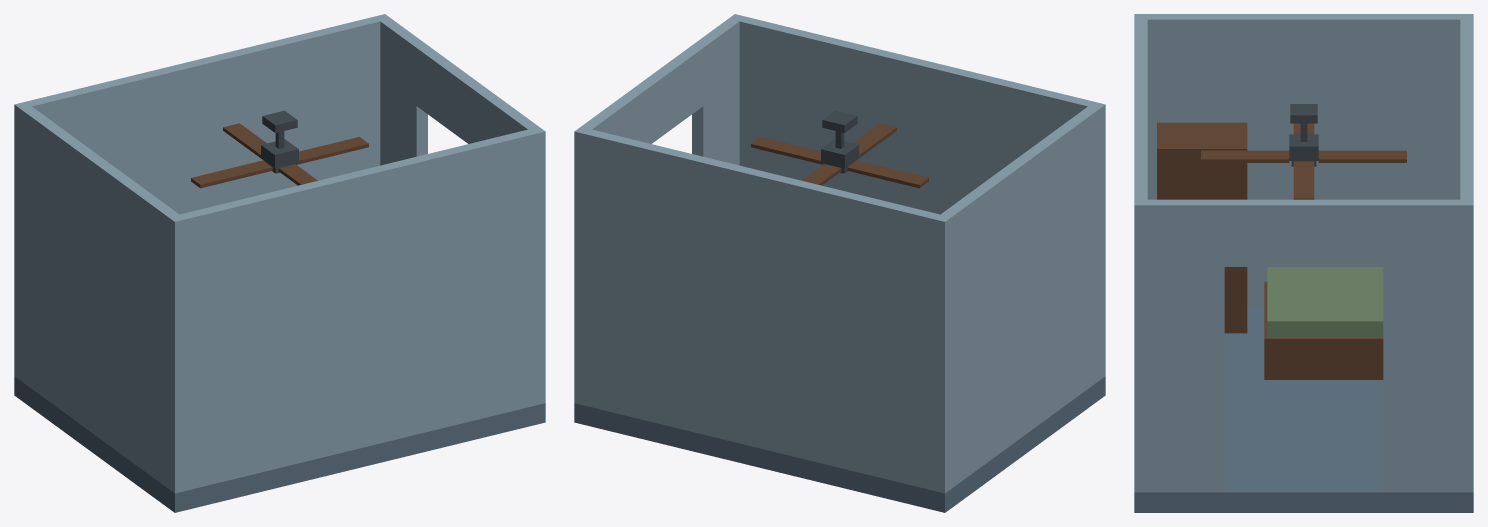
The model's file is room-fan.glb.
The picture shows the model from 3 angles, left to right: view 1: azimuth 30°, elevation 25°; view 2: azimuth 150°, elevation 25°; view 3: azimuth 270°, elevation 25°; orthographic projection. The views are drawn at different scales.
Visible parts, largest first — view 1: Fan room south wall end, Fan room west wall end, Fan room north wall end, Fan room Floor, Fan room east wall segment 1, Fan room east wall door 1 lintel, Fan room east wall end, Fan room Fan blade 3, Fan room Fan blade 1, Fan room Fan motor, Fan room Fan blade 2; view 2: Fan room north wall end, Fan room west wall end, Fan room south wall end, Fan room Floor, Fan room east wall end, Fan room east wall door 1 lintel, Fan room east wall segment 1, Fan room Fan blade 3, Fan room Fan blade 1, Fan room Fan motor, Fan room Fan blade 4; view 3: Fan room west wall end, Fan room Floor, Fan room east wall end, Fan room east wall segment 1, Fan room east wall door 1 lintel, Fan room Mattress, Fan room Wardrobe, Fan room north wall end, Fan room south wall end, Fan room Bed frame, Fan room Fan blade 2, Fan room Fan blade 4 (+3 smaller).
Part boxes in pixels (box(x1,y1,x2,y2)): Fan room south wall end: box(168, 127, 545, 493); Fan room west wall end: box(14, 103, 185, 492); Fan room north wall end: box(14, 14, 390, 380); Fan room Floor: box(14, 376, 545, 512); Fan room east wall segment 1: box(375, 14, 427, 165); Fan room east wall door 1 lintel: box(416, 45, 502, 143); Fan room east wall end: box(491, 100, 545, 405); Fan room Fan blade 3: box(191, 160, 272, 188); Fan room Fan blade 1: box(296, 137, 368, 164); Fan room Fan motor: box(261, 139, 298, 168); Fan room Fan blade 2: box(223, 123, 266, 158); Fan room north wall end: box(574, 127, 951, 493); Fan room west wall end: box(934, 104, 1105, 493); Fan room south wall end: box(729, 14, 1105, 380); Fan room Floor: box(574, 376, 1105, 512); Fan room east wall end: box(692, 15, 744, 165); Fan room east wall door 1 lintel: box(617, 45, 703, 143); Fan room east wall segment 1: box(574, 100, 628, 400); Fan room Fan blade 3: box(847, 160, 928, 188); Fan room Fan blade 1: box(751, 137, 823, 164); Fan room Fan motor: box(821, 139, 858, 168); Fan room Fan blade 4: box(853, 123, 896, 158); Fan room west wall end: box(1134, 14, 1473, 306); Fan room Floor: box(1134, 307, 1473, 512); Fan room east wall end: box(1134, 199, 1224, 492); Fan room east wall segment 1: box(1383, 199, 1473, 492); Fan room east wall door 1 lintel: box(1224, 199, 1383, 266); Fan room Mattress: box(1267, 267, 1383, 337); Fan room Wardrobe: box(1157, 122, 1247, 333); Fan room north wall end: box(1460, 14, 1473, 492); Fan room south wall end: box(1134, 14, 1147, 492); Fan room Bed frame: box(1264, 281, 1383, 379); Fan room Fan blade 2: box(1318, 150, 1406, 162); Fan room Fan blade 4: box(1201, 150, 1289, 162).
Bounding box in the file's own units: 4 × 3 × 3.
